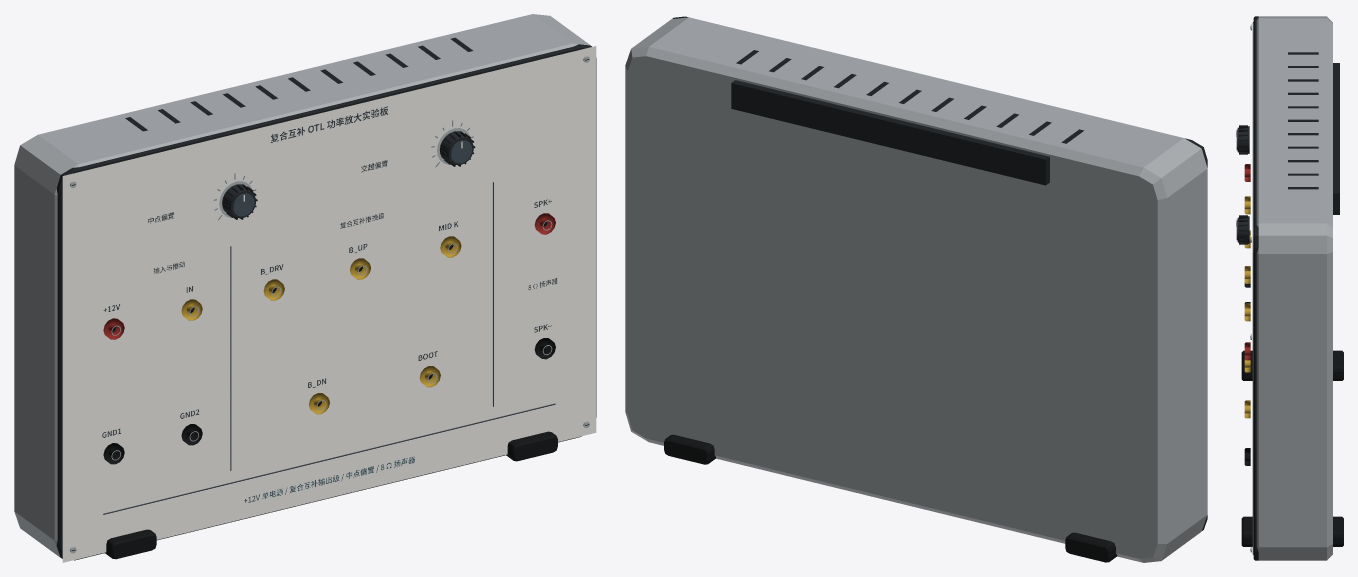
File: module.glb
The picture shows the model from 3 angles, left to right: view 1: azimuth 30°, elevation 25°; view 2: azimuth 150°, elevation 25°; view 3: azimuth 270°, elevation 25°; orthographic projection. The views are drawn at different scales.
Parts seen in each view (by area): view 1: PANEL_silkscreen, STATIC_paint, STATIC_metal, MOVING_RP_MID_paint, MOVING_SW_XOVER_paint; view 2: STATIC_paint; view 3: STATIC_paint, MOVING_RP_MID_paint, MOVING_SW_XOVER_paint.
Part boxes in pixels (x1,y1,x2,y2): PANEL_silkscreen: (62, 46, 596, 562); STATIC_paint: (14, 14, 596, 560); STATIC_metal: (70, 56, 589, 553); MOVING_RP_MID_paint: (222, 184, 257, 219); MOVING_SW_XOVER_paint: (440, 131, 475, 166); STATIC_paint: (625, 16, 1207, 562); STATIC_paint: (1241, 16, 1343, 560); MOVING_RP_MID_paint: (1236, 125, 1249, 154); MOVING_SW_XOVER_paint: (1236, 215, 1249, 244).
Size of the model in its own units: 0.264 by 0.184 by 0.0536.
Materials: 5 (1 with a texture image).
